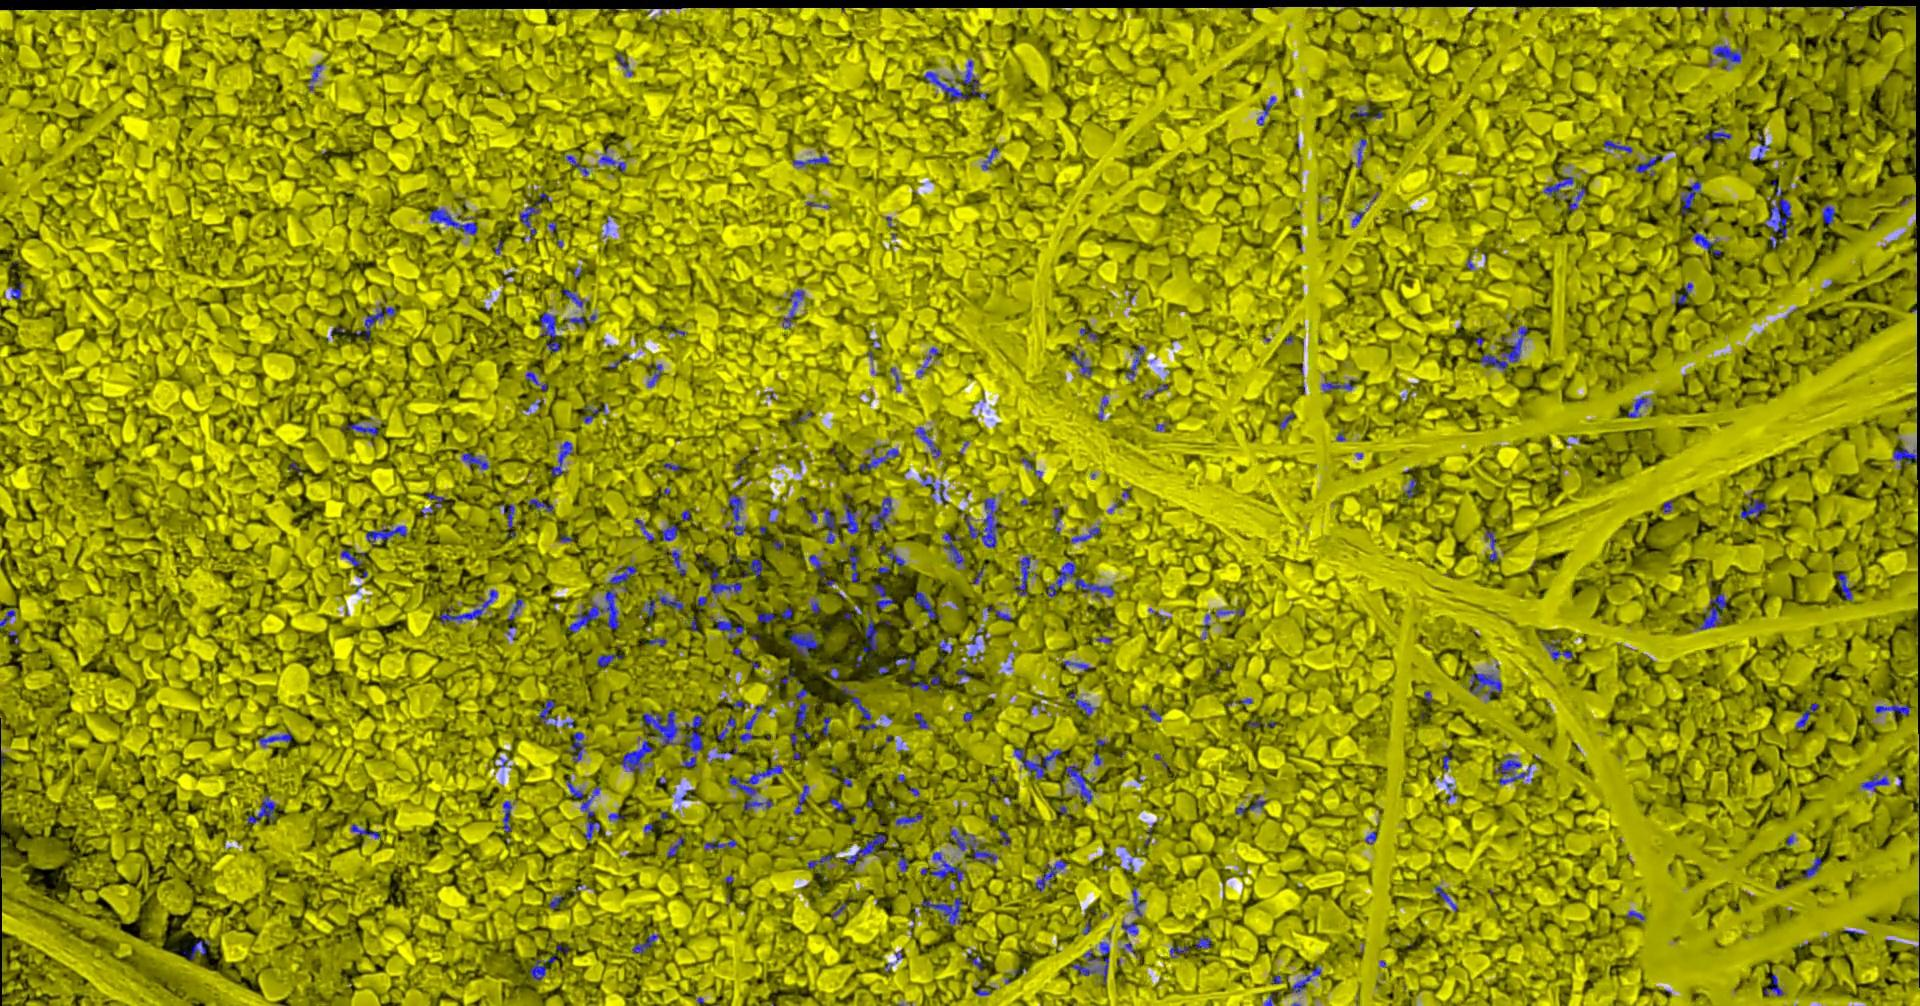ant: (728, 763, 782, 809), (568, 589, 618, 633), (565, 779, 599, 840), (1481, 326, 1528, 371), (439, 589, 497, 624), (965, 495, 1002, 547), (1764, 180, 1792, 248), (1070, 941, 1109, 984), (949, 829, 996, 862), (1013, 748, 1062, 779), (822, 503, 858, 542), (923, 71, 969, 102), (519, 192, 549, 239), (843, 833, 888, 864), (356, 306, 395, 340), (919, 851, 963, 882), (428, 208, 477, 234), (955, 60, 985, 99), (919, 897, 963, 923), (1495, 754, 1531, 784), (1697, 593, 1726, 629), (1065, 765, 1093, 801), (1034, 859, 1065, 890), (1046, 561, 1076, 596), (364, 525, 406, 547), (709, 567, 742, 594), (739, 704, 763, 742), (858, 447, 898, 470), (1074, 577, 1114, 600), (246, 795, 276, 824), (1469, 672, 1501, 699), (869, 495, 891, 532), (851, 696, 876, 729), (538, 311, 559, 352), (646, 594, 683, 616), (913, 589, 940, 619), (782, 290, 803, 328), (879, 544, 904, 574), (1067, 691, 1097, 716), (550, 439, 571, 475), (916, 426, 940, 457), (1740, 492, 1766, 520), (1291, 967, 1321, 992), (1630, 152, 1662, 175), (728, 494, 745, 535), (789, 631, 817, 657), (942, 532, 964, 564), (1680, 180, 1700, 213), (684, 714, 702, 751), (599, 146, 625, 171), (530, 955, 555, 981), (1713, 44, 1740, 69), (610, 565, 636, 589), (1691, 232, 1719, 255), (1125, 345, 1143, 381), (921, 478, 947, 500), (716, 619, 744, 640), (1236, 794, 1265, 814), (862, 619, 877, 657), (792, 688, 808, 727), (1434, 885, 1457, 911), (1564, 185, 1585, 213), (499, 503, 516, 537), (568, 730, 585, 762), (1796, 702, 1818, 727), (872, 583, 894, 608), (1543, 177, 1573, 194), (1256, 97, 1275, 124), (1015, 556, 1029, 594), (1069, 351, 1091, 375), (665, 549, 684, 575), (1545, 641, 1572, 661), (631, 934, 658, 953), (182, 940, 208, 959), (634, 517, 654, 541), (1893, 445, 1919, 464), (1862, 774, 1888, 791), (582, 403, 604, 423), (792, 784, 808, 814), (1070, 526, 1098, 542), (258, 732, 291, 746), (716, 716, 735, 741), (350, 823, 380, 838), (345, 422, 377, 436), (461, 452, 488, 469), (566, 155, 588, 175), (563, 288, 585, 307), (524, 371, 547, 390), (665, 835, 684, 857), (1836, 572, 1851, 600), (910, 676, 938, 691), (792, 155, 829, 166), (847, 545, 858, 582), (1704, 127, 1730, 144), (1484, 528, 1497, 561), (985, 605, 1011, 621), (1876, 702, 1909, 715), (1625, 396, 1646, 417), (340, 547, 362, 567), (1799, 857, 1821, 876), (1763, 973, 1782, 995), (1131, 887, 1145, 916), (616, 52, 632, 76), (537, 699, 554, 723), (1603, 138, 1630, 152), (808, 554, 823, 579), (742, 558, 762, 577), (1140, 702, 1161, 721), (982, 146, 998, 169), (309, 64, 323, 90), (1352, 138, 1366, 165), (596, 653, 622, 667), (1321, 380, 1352, 391), (808, 854, 833, 868), (895, 813, 922, 826), (703, 838, 737, 848), (507, 598, 522, 620), (648, 363, 662, 386), (528, 499, 552, 512), (1677, 282, 1691, 304), (1277, 412, 1294, 429), (966, 951, 983, 969), (0, 608, 15, 627), (502, 800, 510, 832), (894, 657, 916, 669), (662, 523, 678, 540), (1062, 661, 1088, 671), (1821, 205, 1835, 224), (1349, 104, 1369, 117), (425, 492, 444, 504), (1404, 478, 1416, 498), (913, 713, 928, 728), (1121, 922, 1137, 937), (1214, 608, 1243, 616), (1053, 507, 1060, 533), (549, 895, 563, 909), (1170, 946, 1189, 956), (10, 282, 22, 298), (1194, 936, 1210, 948), (1247, 720, 1276, 727), (757, 612, 775, 622), (829, 798, 843, 810), (679, 756, 695, 767), (822, 716, 830, 735), (648, 636, 665, 645), (897, 856, 907, 871)
